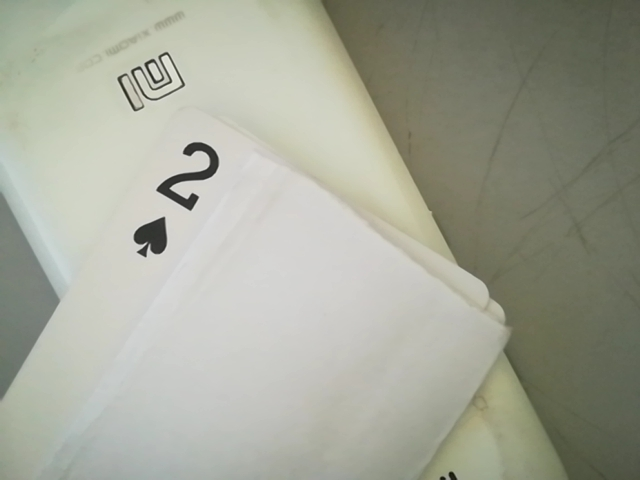ht 2: (116, 114, 245, 267)
